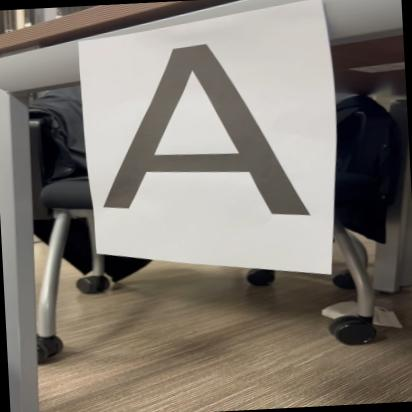seat: (82, 35, 329, 240)
